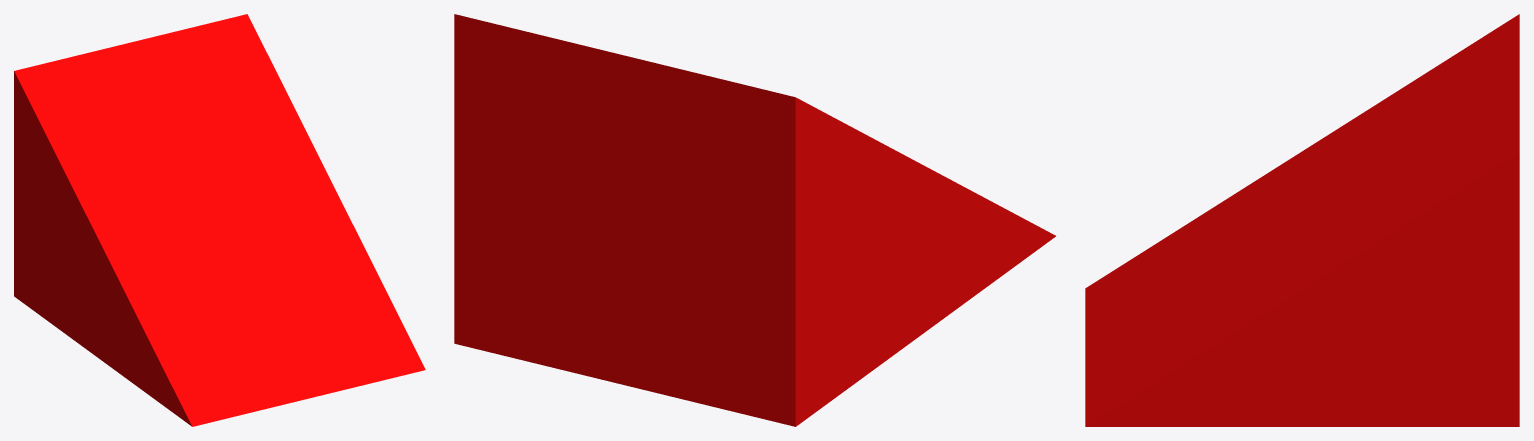
The model's file is Slope_Block.fbx.
The picture shows the model from 3 angles, left to right: view 1: azimuth 30°, elevation 25°; view 2: azimuth 150°, elevation 25°; view 3: azimuth 270°, elevation 25°; orthographic projection. The views are drawn at different scales.
Parts seen in each view (by area): view 1: 큐브; view 2: 큐브; view 3: 큐브.
Boxes of the visible parts, box(x1,y1,x2,y2) form: 큐브: box(14, 14, 425, 426); 큐브: box(454, 14, 1055, 426); 큐브: box(1085, 14, 1519, 426).
Size of the model in its own units: 1.21 by 1.12 by 1.6.
